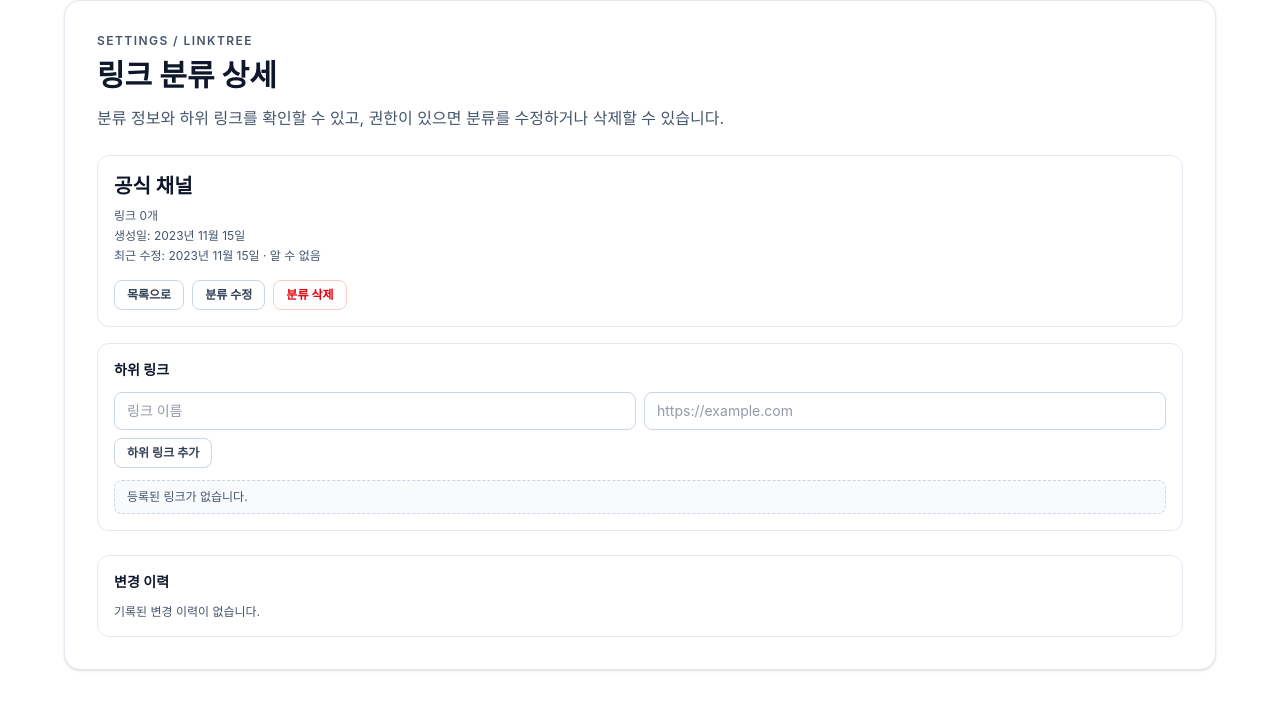
Scenario: LinktreeGroupDetail › adds a new sub-link from group detail page
This screenshot has width=1280, height=720.
Check: the text "링크 0개" is shown, box 114,208 -> 158,223
Type "Instagram" into the field with test id "linktree-group-item-name-input".
click(375, 411); type("Instagram")  # box 114,392 -> 636,430
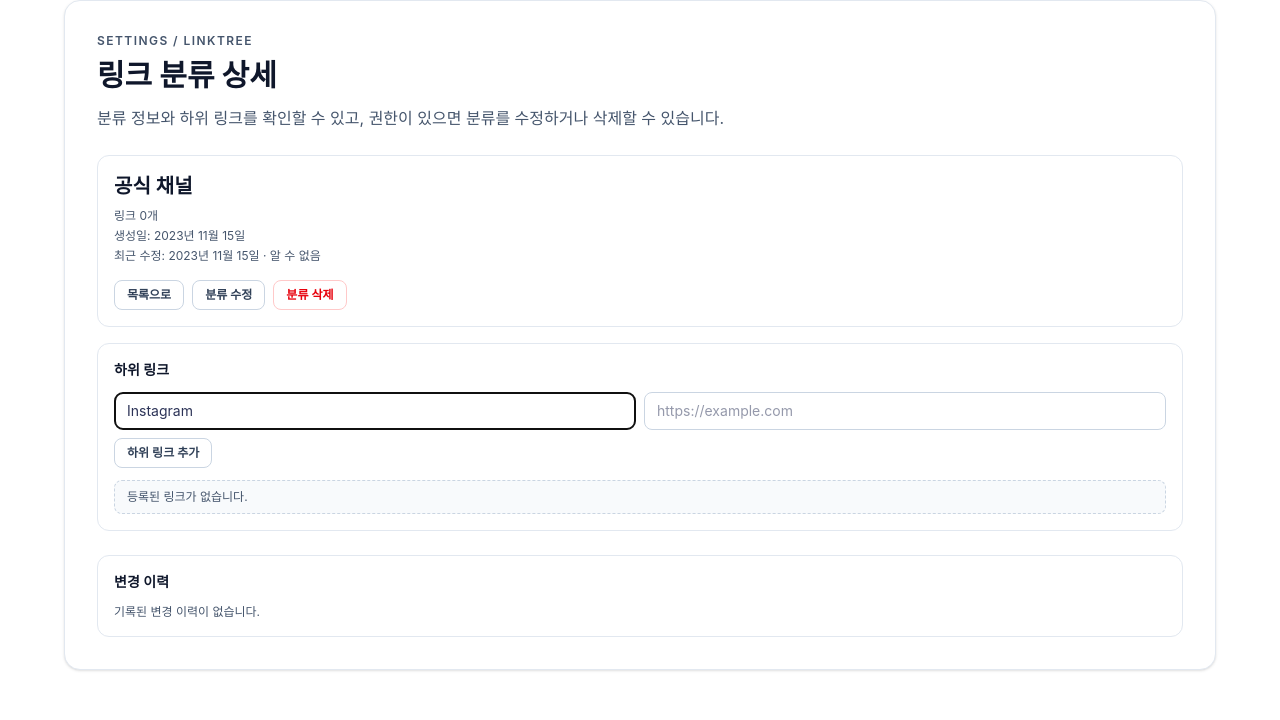
Type "https://instagram.com/yonyoung" into the field with test id "linktree-group-item-link-input".
click(905, 411); type("https://instagram.com/yonyoung")  # box 644,392 -> 1166,430
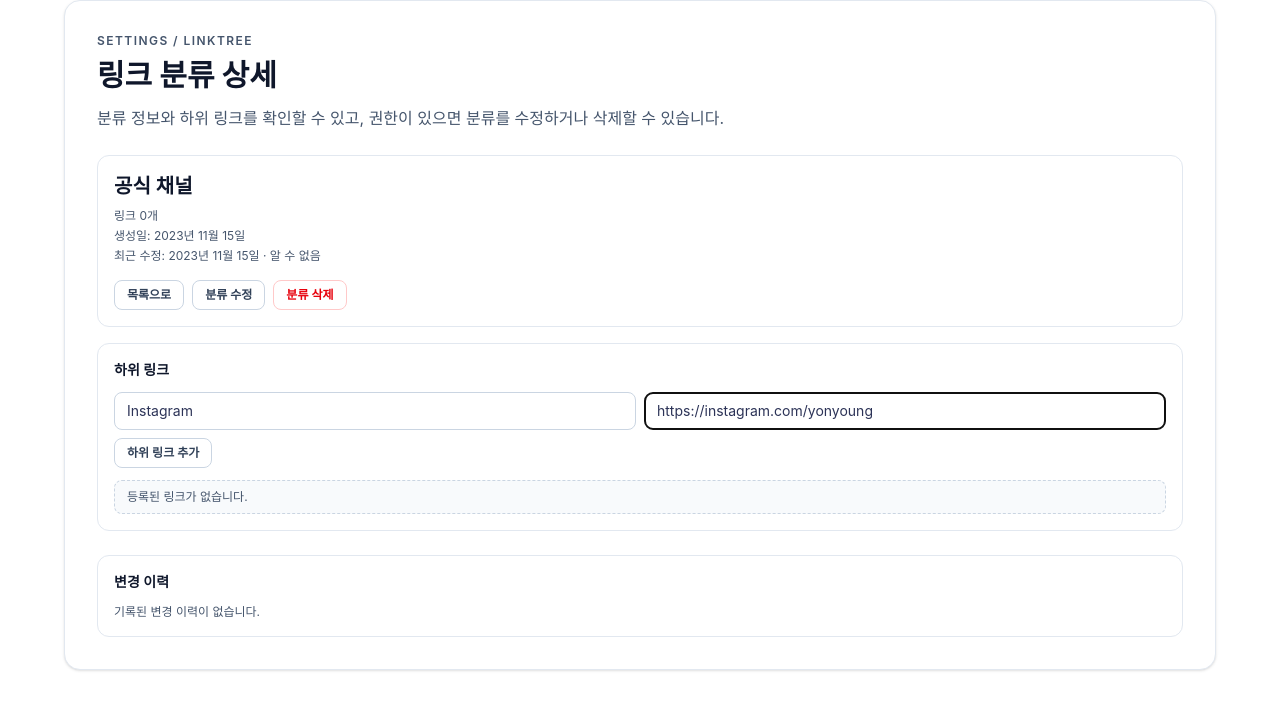
Click the button with test id "linktree-group-item-add-submit".
click(163, 453)  # box 114,438 -> 212,468
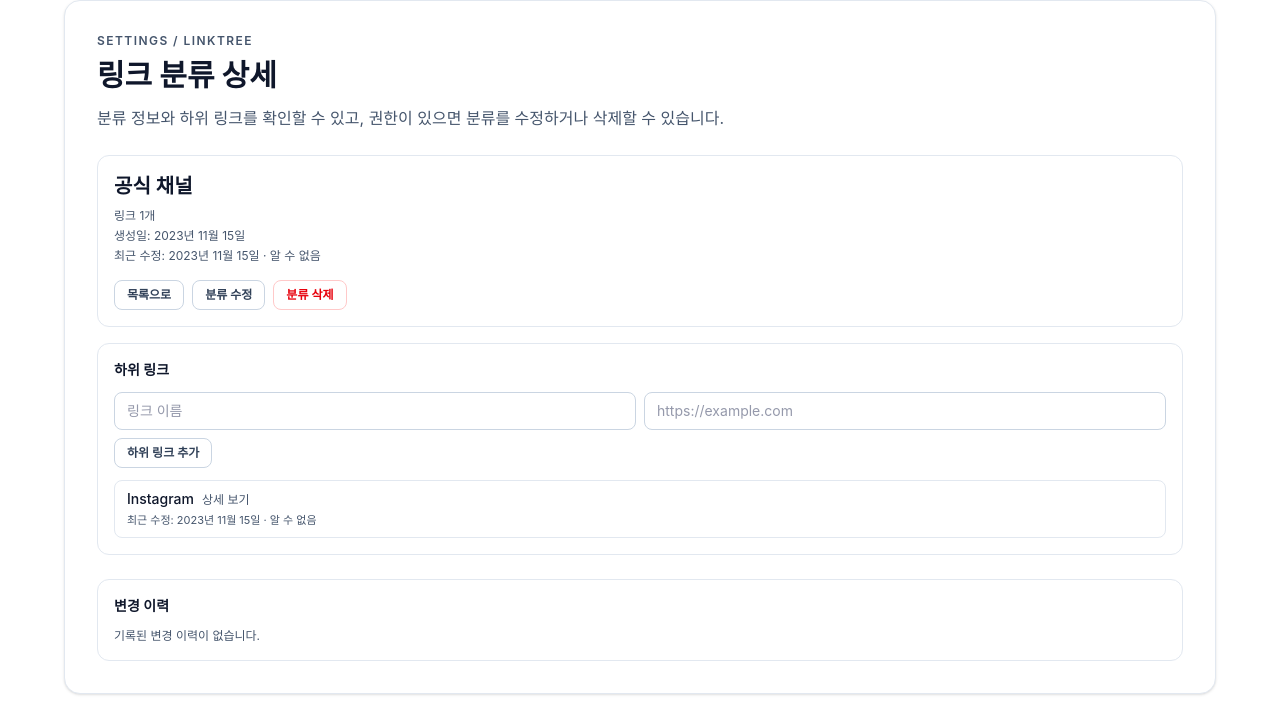
Check: the text "링크 1개" is shown, box 114,208 -> 155,223
Check: the text "Instagram" is shown, box 127,490 -> 194,507
